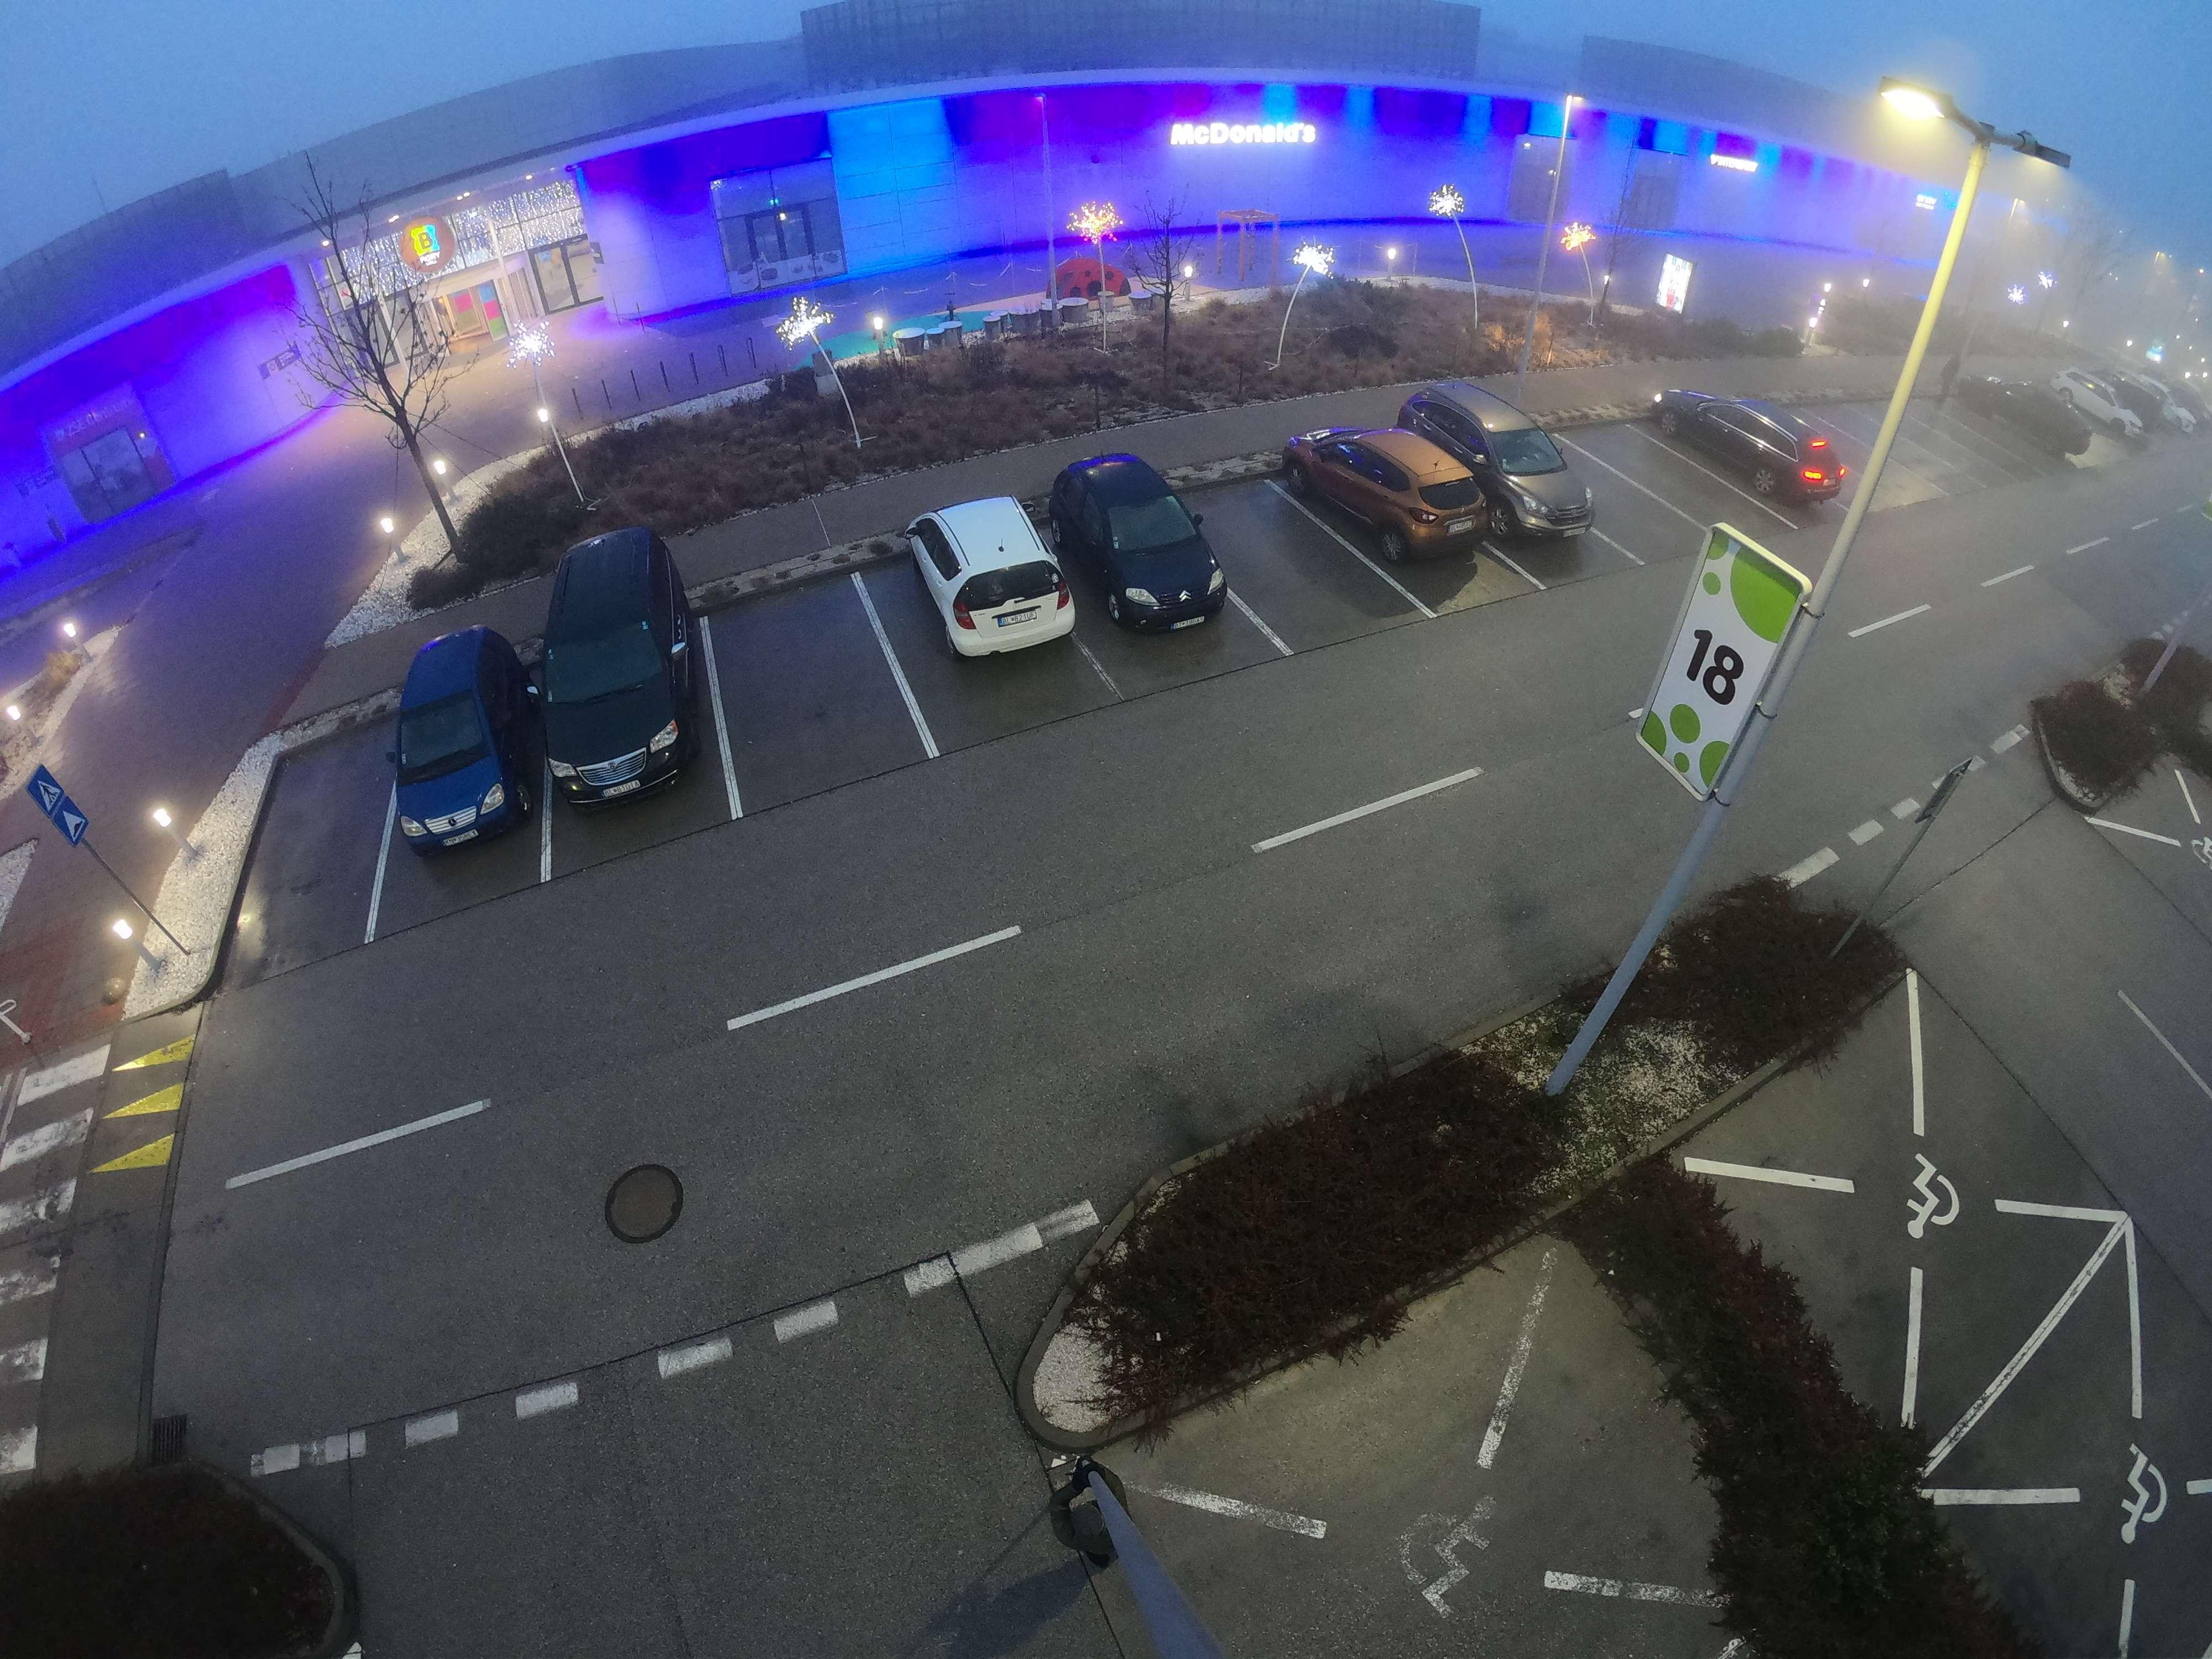empty: (493, 537, 712, 810), (361, 634, 542, 854), (1061, 458, 1240, 633), (920, 497, 1094, 671), (1292, 427, 1486, 558), (1420, 389, 1585, 532), (1665, 389, 1843, 498)
occupied: (260, 786, 381, 915), (740, 631, 866, 744), (1231, 526, 1329, 610), (1562, 457, 1653, 533), (1649, 450, 1726, 514)
